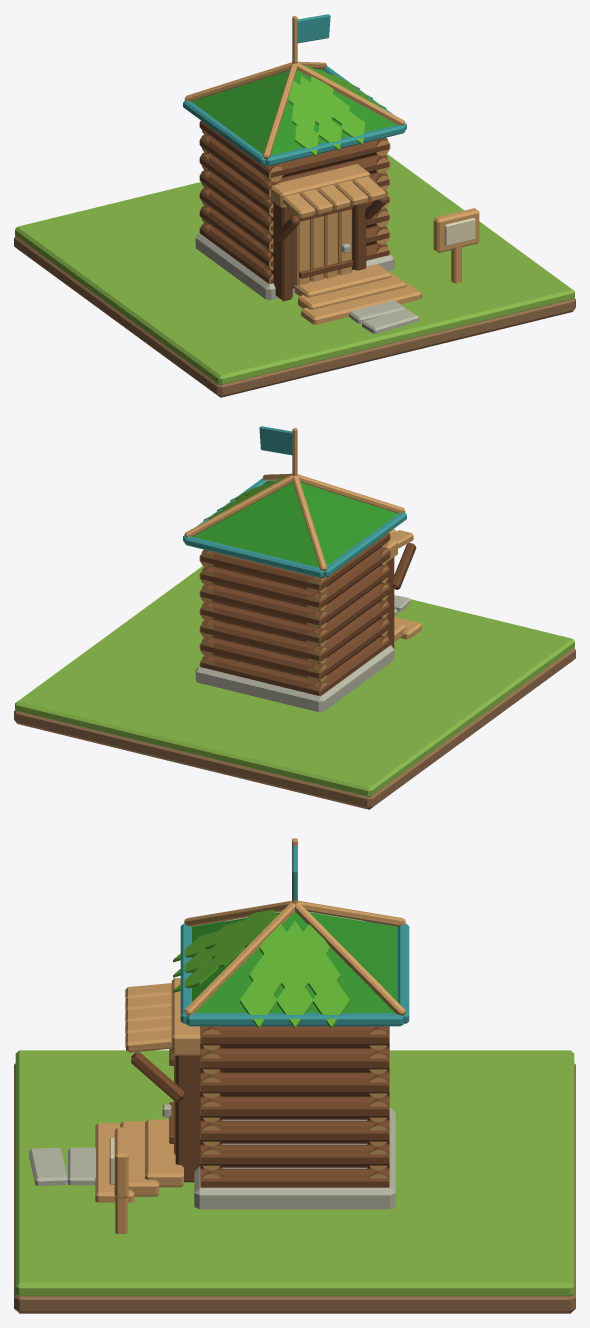
The model's file is town_hall_l02_active_LOD0.glb.
The picture shows the model from 3 angles, top to bottom: view 1: azimuth 30°, elevation 25°; view 2: azimuth 150°, elevation 25°; view 3: azimuth 270°, elevation 25°; orthographic projection. The views are drawn at different scales.
Parts seen in each view (by area): view 1: town_hall_l02_active_grass_tile, town_hall_l02_active_earth_tile, town_hall_l02_active_hip_roof_shingle.011, town_hall_l02_active_foundation, town_hall_l02_active_wall_log.024, town_hall_l02_active_door_jamb, town_hall_l02_active_entry_step.002, town_hall_l02_active_door_lintel, town_hall_l02_active_entry_step.001, town_hall_l02_active_hip_roof_shingle.010, town_hall_l02_active_entry_step, town_hall_l02_active_eave_trim (+28 smaller); view 2: town_hall_l02_active_grass_tile, town_hall_l02_active_earth_tile, town_hall_l02_active_foundation, town_hall_l02_active_hip_roof_shingle.008, town_hall_l02_active_hip_roof_shingle.011, town_hall_l02_active_wall_log.009, town_hall_l02_active_wall_log.005, town_hall_l02_active_wall_log.013, town_hall_l02_active_wall_log.021, town_hall_l02_active_wall_log.017, town_hall_l02_active_hip_roof_shingle.007, town_hall_l02_active_wall_log.001 (+18 smaller); view 3: town_hall_l02_active_grass_tile, town_hall_l02_active_earth_tile, town_hall_l02_active_foundation, town_hall_l02_active_wall_log.015, town_hall_l02_active_wall_log.019, town_hall_l02_active_wall_log.023, town_hall_l02_active_wall_log.007, town_hall_l02_active_wall_log.011, town_hall_l02_active_wall_log.027, town_hall_l02_active_wall_log.003, town_hall_l02_active_door_jamb.001, town_hall_l02_active_eave_trim.001 (+29 smaller).
Boxes of the visible parts, <box> form: town_hall_l02_active_grass_tile: <box>15,154,574,384</box>; town_hall_l02_active_earth_tile: <box>14,236,575,397</box>; town_hall_l02_active_hip_roof_shingle.011: <box>191,92,271,165</box>; town_hall_l02_active_foundation: <box>195,233,394,299</box>; town_hall_l02_active_wall_log.024: <box>263,137,389,180</box>; town_hall_l02_active_door_jamb: <box>271,200,292,301</box>; town_hall_l02_active_entry_step.002: <box>301,283,421,324</box>; town_hall_l02_active_door_lintel: <box>269,164,370,208</box>; town_hall_l02_active_entry_step.001: <box>298,273,406,309</box>; town_hall_l02_active_hip_roof_shingle.010: <box>222,80,280,127</box>; town_hall_l02_active_entry_step: <box>294,264,391,297</box>; town_hall_l02_active_eave_trim: <box>265,124,405,165</box>; town_hall_l02_active_grass_tile: <box>15,566,574,796</box>; town_hall_l02_active_earth_tile: <box>14,648,575,809</box>; town_hall_l02_active_foundation: <box>195,634,394,711</box>; town_hall_l02_active_hip_roof_shingle.008: <box>193,520,324,577</box>; town_hall_l02_active_hip_roof_shingle.011: <box>318,504,398,577</box>; town_hall_l02_active_wall_log.009: <box>200,619,326,663</box>; town_hall_l02_active_wall_log.005: <box>200,637,326,681</box>; town_hall_l02_active_wall_log.013: <box>200,602,326,645</box>; town_hall_l02_active_wall_log.021: <box>200,566,326,610</box>; town_hall_l02_active_wall_log.017: <box>200,584,326,628</box>; town_hall_l02_active_hip_roof_shingle.007: <box>223,500,311,541</box>; town_hall_l02_active_wall_log.001: <box>200,655,326,695</box>; town_hall_l02_active_grass_tile: <box>15,1050,574,1296</box>; town_hall_l02_active_earth_tile: <box>14,1063,575,1313</box>; town_hall_l02_active_foundation: <box>194,1107,395,1209</box>; town_hall_l02_active_wall_log.015: <box>200,1096,389,1119</box>; town_hall_l02_active_wall_log.019: <box>200,1072,389,1095</box>; town_hall_l02_active_wall_log.023: <box>200,1048,389,1071</box>; town_hall_l02_active_wall_log.007: <box>200,1144,389,1167</box>; town_hall_l02_active_wall_log.011: <box>200,1120,389,1143</box>; town_hall_l02_active_wall_log.027: <box>200,1026,389,1047</box>; town_hall_l02_active_wall_log.003: <box>200,1168,389,1187</box>; town_hall_l02_active_door_jamb.001: <box>175,1055,200,1182</box>; town_hall_l02_active_eave_trim.001: <box>186,1013,403,1026</box>.
Size of the model in its own units: 3.6 by 2.53 by 3.6.
